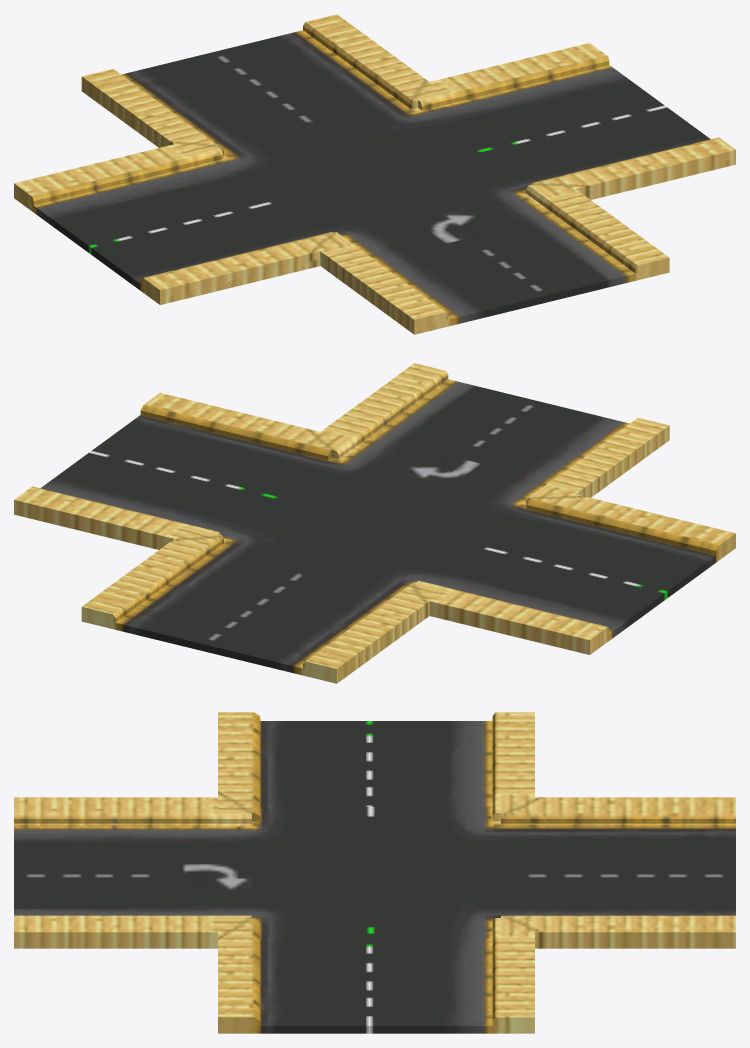
File: Road2.glb
The picture shows the model from 3 angles, top to bottom: view 1: azimuth 30°, elevation 25°; view 2: azimuth 150°, elevation 25°; view 3: azimuth 270°, elevation 25°; orthographic projection. The views are drawn at different scales.
Parts seen in each view (by area): view 1: Road2; view 2: Road2; view 3: Road2.
Part boxes in pixels (x1,y1,x2,y2): Road2: (14,14,735,334); Road2: (14,363,735,683); Road2: (14,712,735,1033).
Size of the model in its own units: 255 by 6.29 by 255.
1 material, 1 textured.
